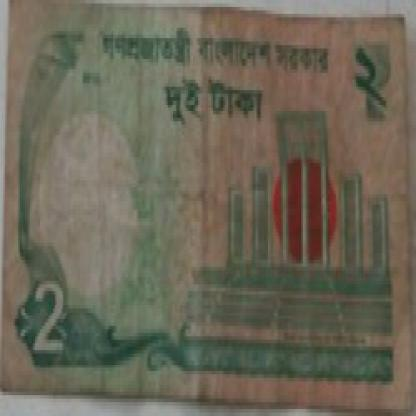two taka: (165, 70, 273, 122), (35, 288, 75, 364), (354, 35, 390, 114)
